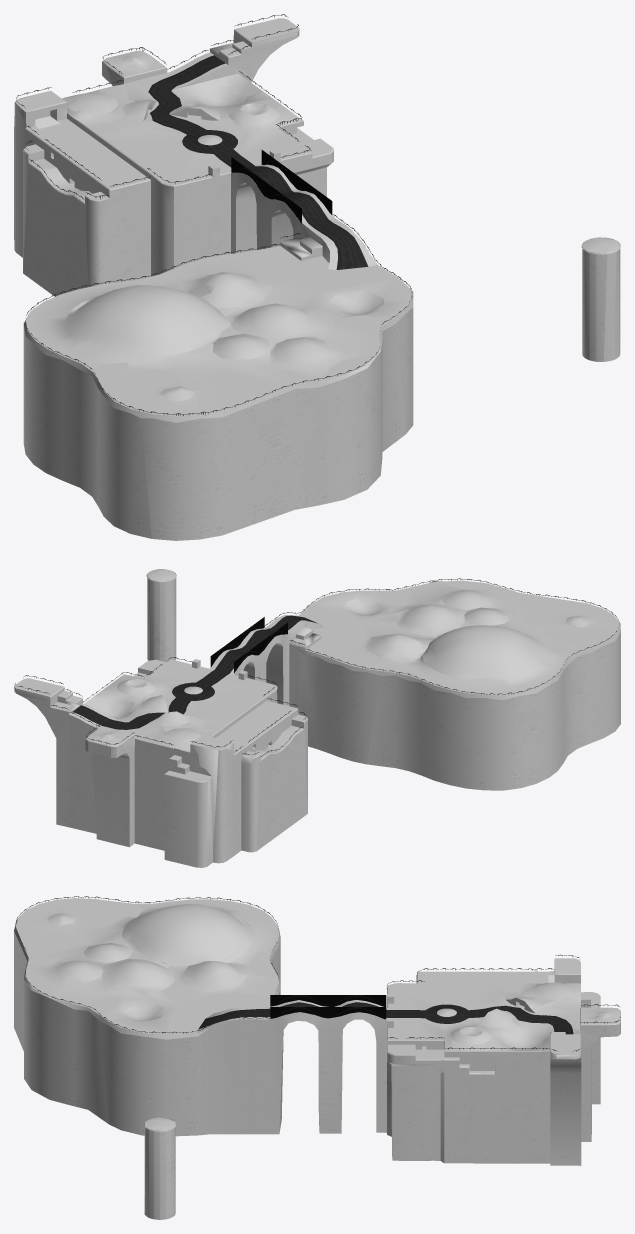
Rendered from level.fbx.
The picture shows the model from 3 angles, top to bottom: view 1: azimuth 30°, elevation 25°; view 2: azimuth 150°, elevation 25°; view 3: azimuth 270°, elevation 25°; orthographic projection. The views are drawn at different scales.
Visible parts, largest first — view 1: Wall, Floor, Plane.001, Plane.002, Plane; view 2: Wall, Floor, Plane.001, Plane, Plane.002; view 3: Wall, Floor, Plane.001, Plane, Plane.002.
Part boxes in pixels (x1,y1,x2,y2): Wall: (14, 30, 620, 540); Floor: (14, 18, 620, 422); Plane.001: (231, 150, 332, 223); Plane.002: (16, 14, 311, 199); Plane: (25, 214, 412, 415); Wall: (14, 569, 620, 867); Floor: (14, 569, 620, 782); Plane.001: (210, 617, 287, 672); Plane: (265, 578, 618, 694); Plane.002: (15, 657, 306, 756); Wall: (14, 931, 620, 1219); Floor: (14, 898, 620, 1219); Plane.001: (270, 995, 386, 1019); Plane: (17, 896, 279, 1033); Plane.002: (387, 954, 620, 1051).
Bounding box in the file's own units: 2091 × 614 × 2405.
